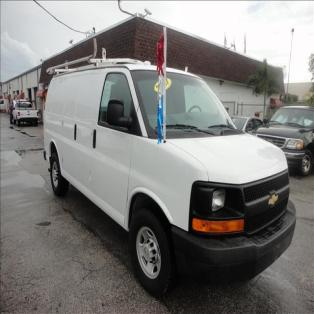Auto: (44, 62, 297, 280)
